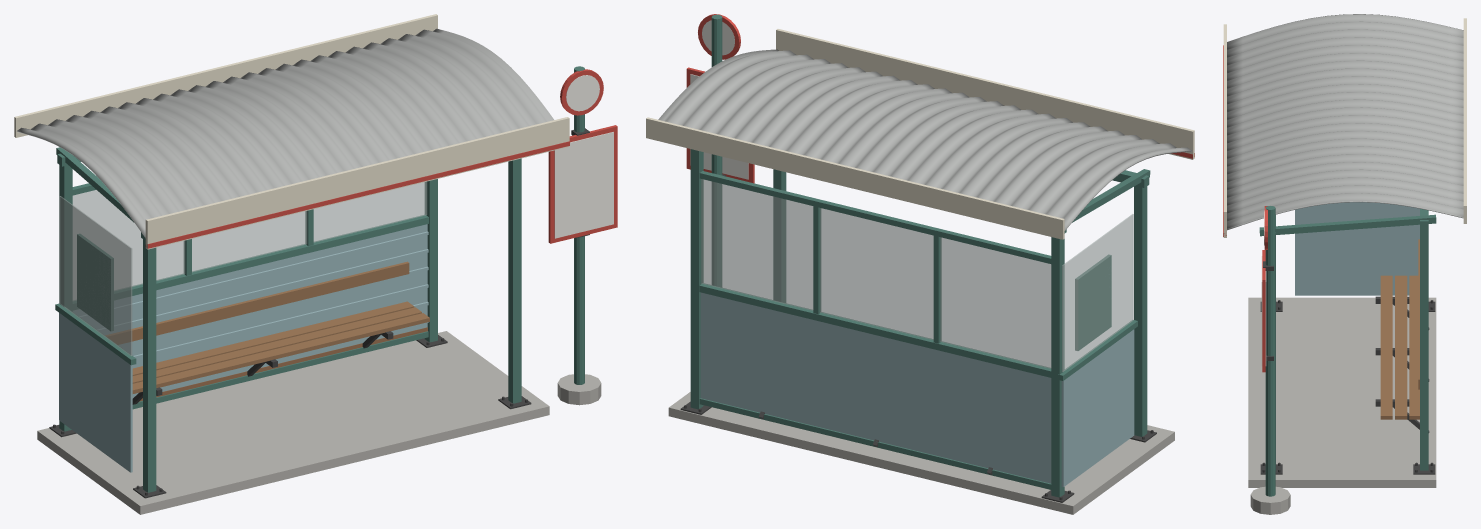
Rendered from bus_shelter_6080.glb.
3 views of the same model, side by side, from view 1: azimuth 30°, elevation 25°; view 2: azimuth 150°, elevation 25°; view 3: azimuth 270°, elevation 25° (orthographic). The views are drawn at different scales.
Visible parts, largest first — view 1: bus_shelter; view 2: bus_shelter; view 3: bus_shelter.
Boxes of the visible parts, x1,y1,x2,y2 form: bus_shelter: [14, 14, 617, 514]; bus_shelter: [646, 14, 1194, 514]; bus_shelter: [1223, 14, 1466, 514].
Size of the model in its own units: 4.68 by 2.98 by 2.2.
